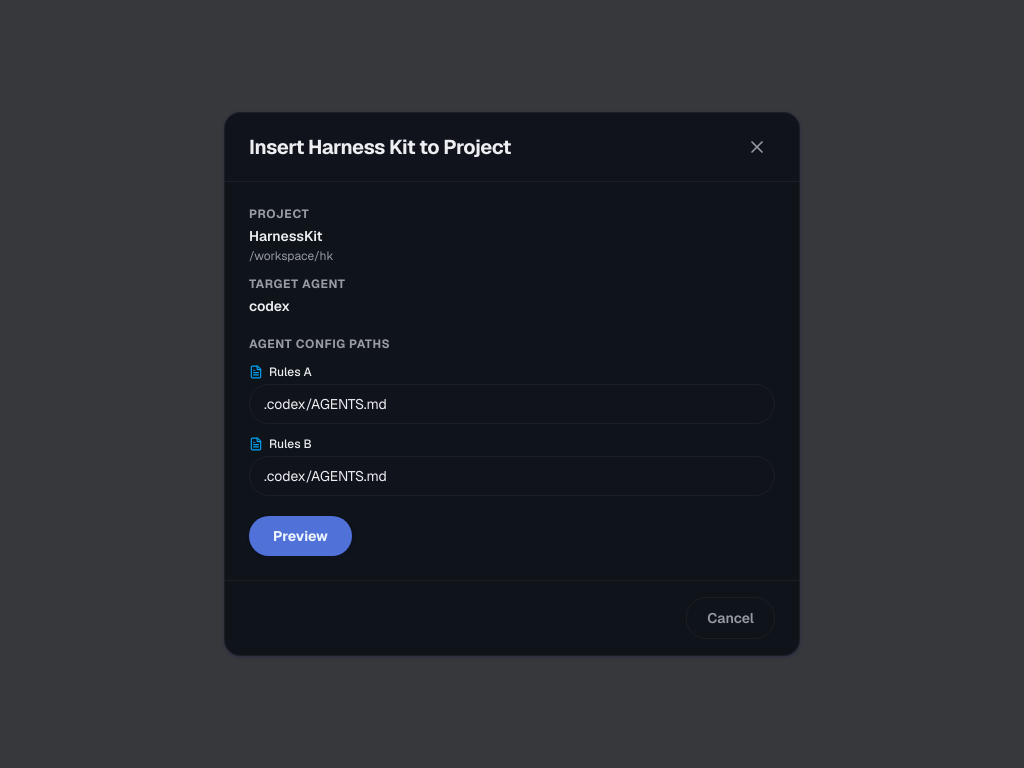
it: HarnessKitInsertDialog › blocks duplicate config paths
This screenshot has width=1024, height=768.
Click the button "Preview" at (300, 536), box [249, 516, 352, 556]
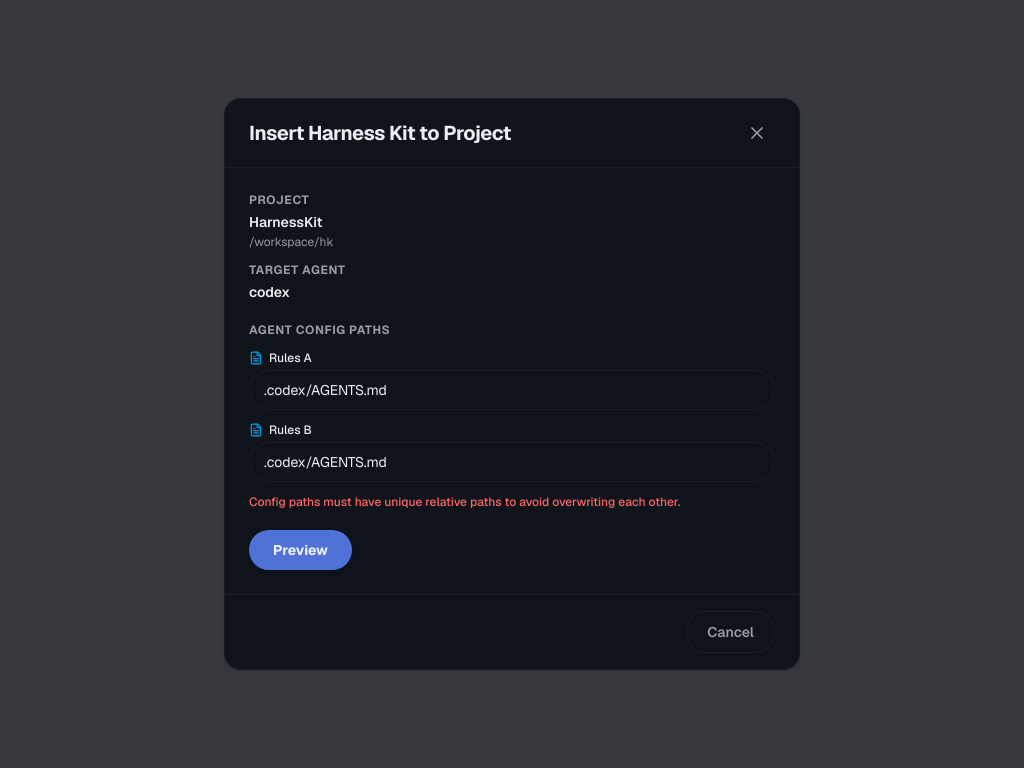
Check: the text "unique relative paths" is shown, box [249, 494, 680, 510]
